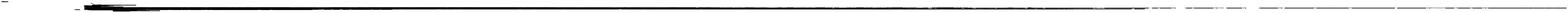corridor: (1186, 4, 1195, 5), (1188, 2, 1191, 3), (1175, 4, 1182, 4), (1183, 4, 1186, 4)
room: (1105, 4, 1117, 5), (1178, 2, 1185, 3), (1170, 2, 1173, 4), (1198, 4, 1203, 5), (1073, 6, 1076, 7), (1174, 2, 1177, 3), (1195, 4, 1198, 5), (1185, 2, 1188, 3), (1188, 2, 1191, 3), (1201, 3, 1203, 4), (1172, 3, 1174, 4), (1177, 2, 1178, 3), (1368, 4, 1375, 4), (1127, 2, 1130, 2), (1170, 2, 1173, 2), (1257, 2, 1260, 2), (1301, 2, 1304, 2), (1412, 4, 1418, 4), (1196, 3, 1201, 3), (1170, 4, 1172, 4), (1199, 3, 1203, 3), (1183, 4, 1186, 4), (1191, 3, 1194, 3), (1503, 4, 1504, 4), (1489, 4, 1491, 4), (1434, 1, 1438, 1), (1123, 2, 1127, 2), (1167, 2, 1170, 2), (1254, 2, 1257, 2), (1297, 2, 1301, 2), (1219, 4, 1240, 4), (1346, 4, 1368, 4), (1453, 4, 1455, 4), (1427, 0, 1429, 0)
wall: (1081, 2, 1104, 5), (1186, 4, 1195, 5), (1199, 4, 1202, 5), (1130, 4, 1132, 5), (1049, 4, 1051, 5), (1172, 3, 1174, 4), (1346, 3, 1375, 3), (1129, 4, 1131, 4), (1529, 4, 1561, 4), (1538, 3, 1554, 3), (1531, 4, 1538, 4), (1535, 2, 1557, 2), (1412, 0, 1414, 0), (1418, 0, 1420, 0), (1403, 0, 1404, 0), (1201, 4, 1203, 4), (1172, 4, 1175, 4), (1175, 4, 1182, 4), (1445, 4, 1450, 4), (1451, 4, 1456, 4), (1105, 4, 1108, 4)
window: (1453, 4, 1455, 4), (1427, 0, 1429, 0)
